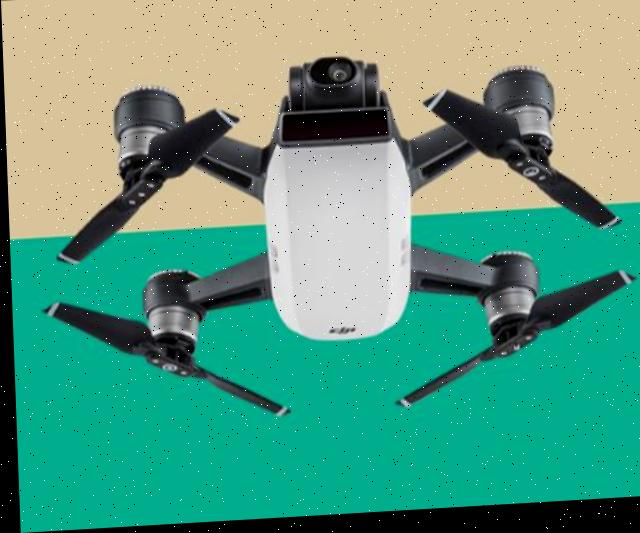drone: (0, 0, 640, 526)
